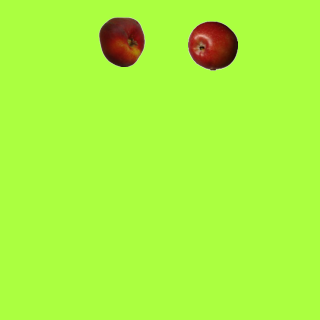Apple Braeburn: (187, 20, 237, 70)
Nectarine Flat: (96, 16, 146, 66)
